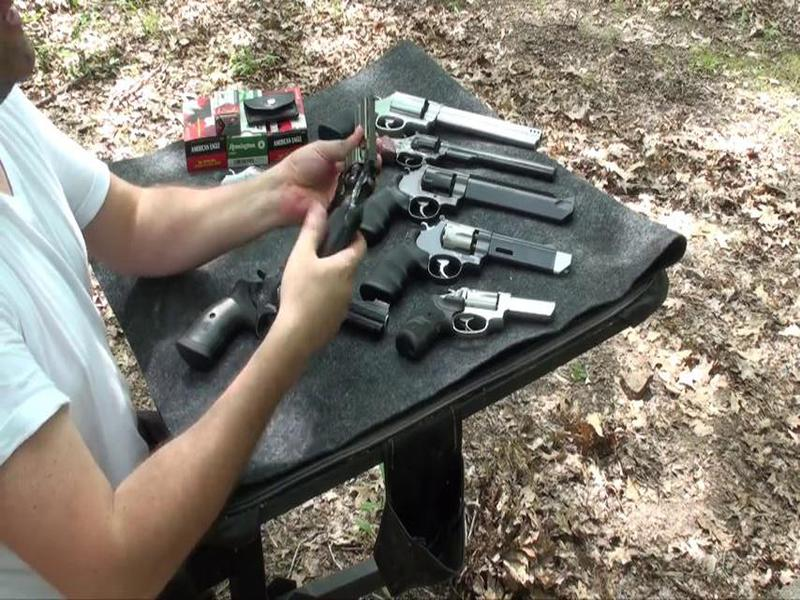Revolver: (298, 81, 382, 273)
